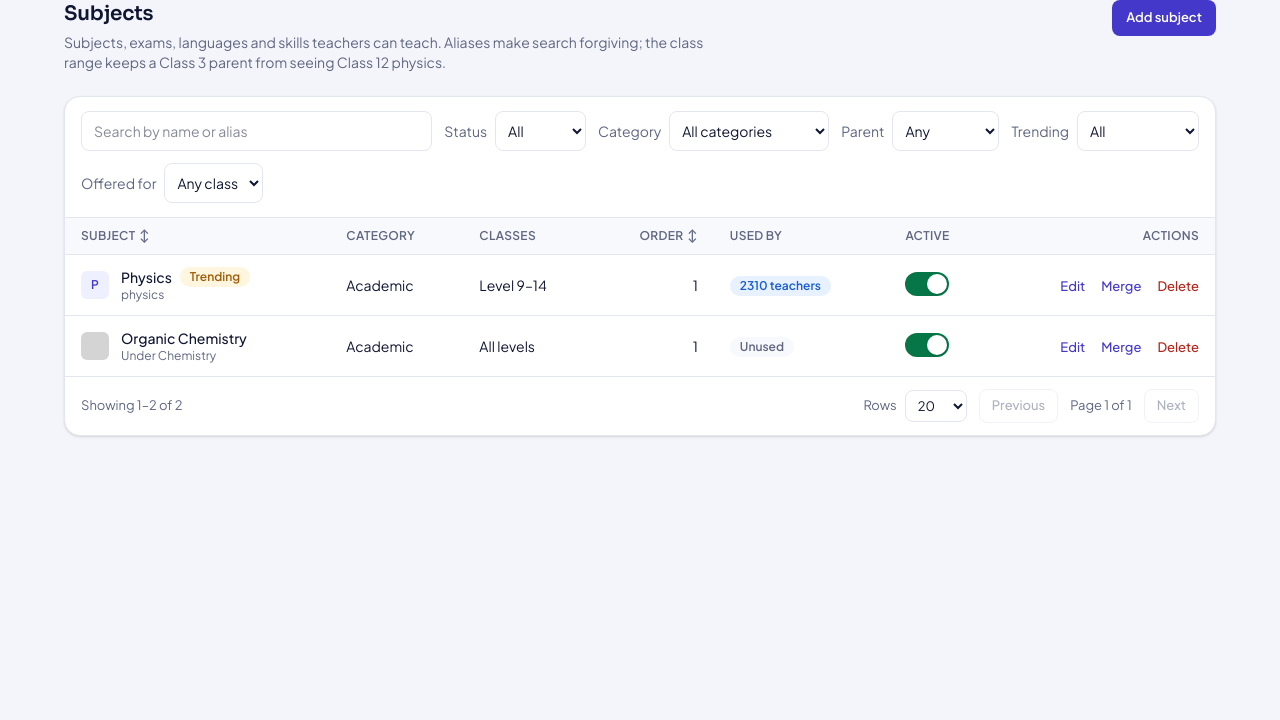
Test: subjects list page › merges a subject from its row
The image size is (1280, 720).
Click the button with aria-label "Merge Organic Chemistry": (1121, 347) [1101, 338, 1141, 356]
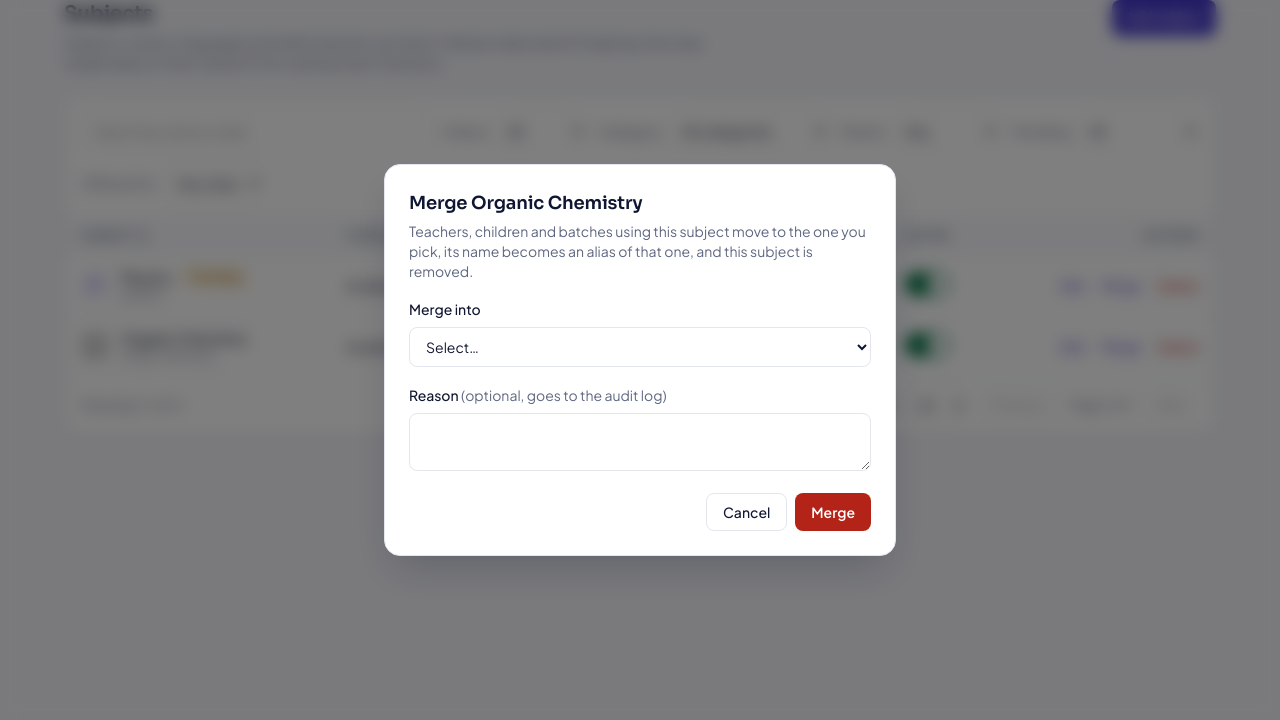
Select "Chemistry" in the dropdown labelled "Merge into": (640, 347) [409, 327, 871, 367]
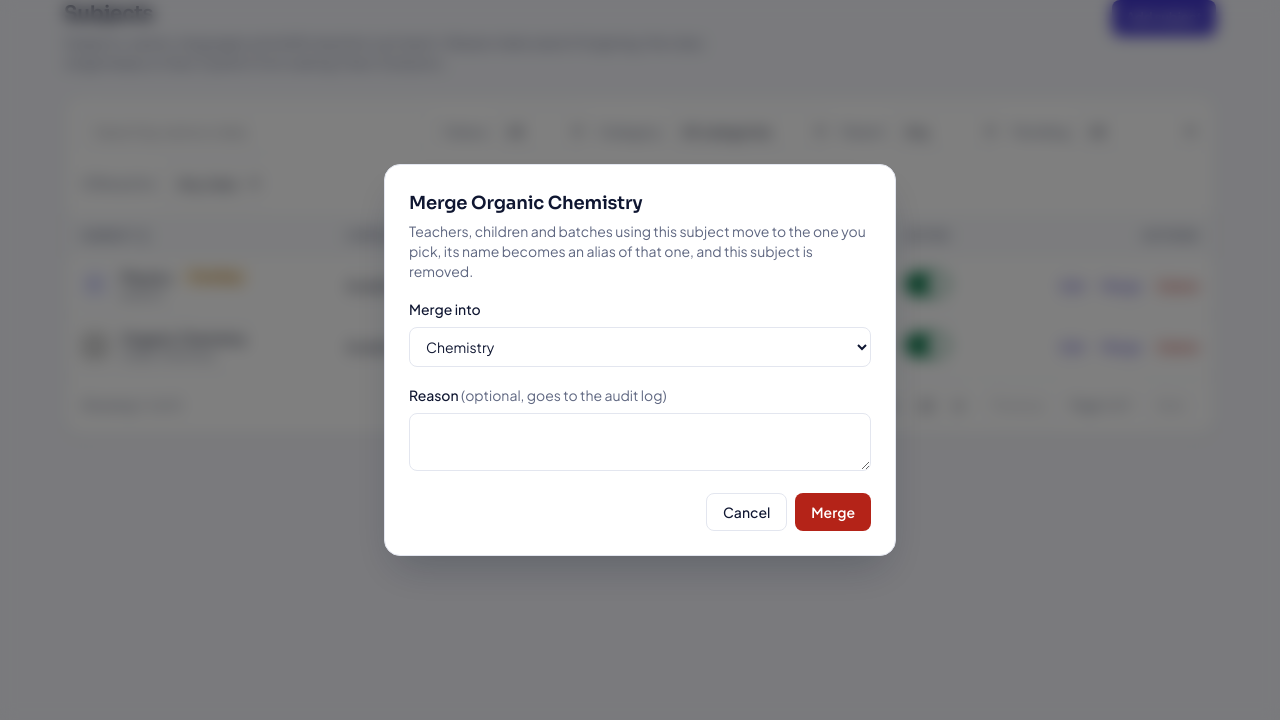
Click the button "Merge": (833, 512) [795, 493, 871, 531]
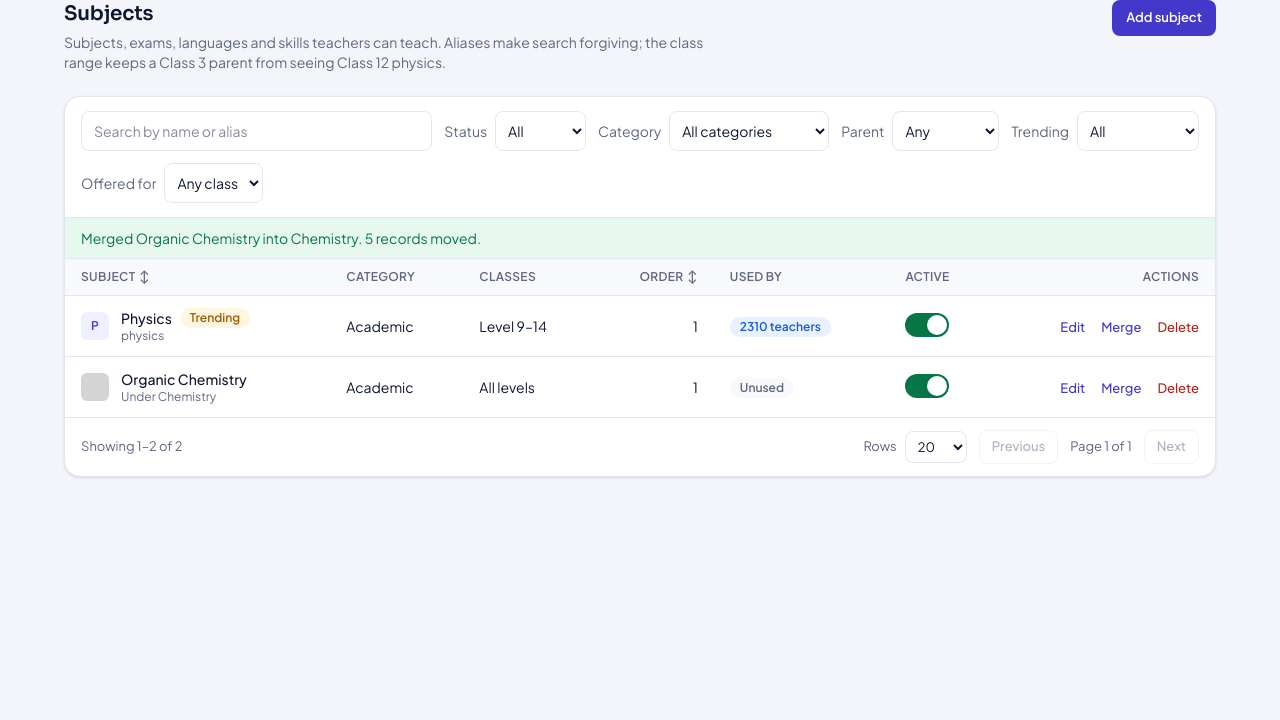
Check: the dialog is gone
Check: the message reads "Merged Organic Chemistry into Chemistry. 5 records moved.", box [81, 229, 481, 247]
